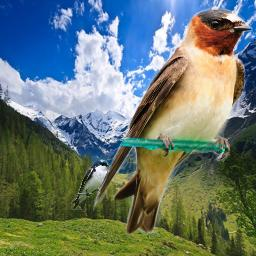Swallow: (93, 8, 253, 235), (71, 159, 110, 210)
